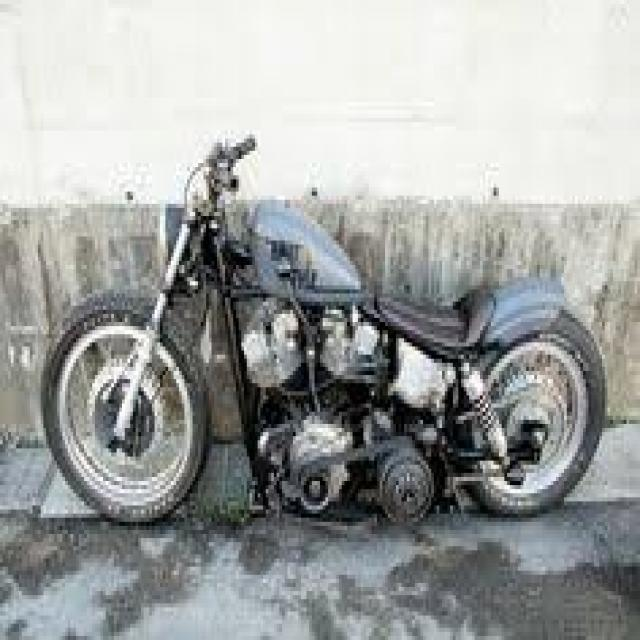Bike: (39, 130, 606, 525)
